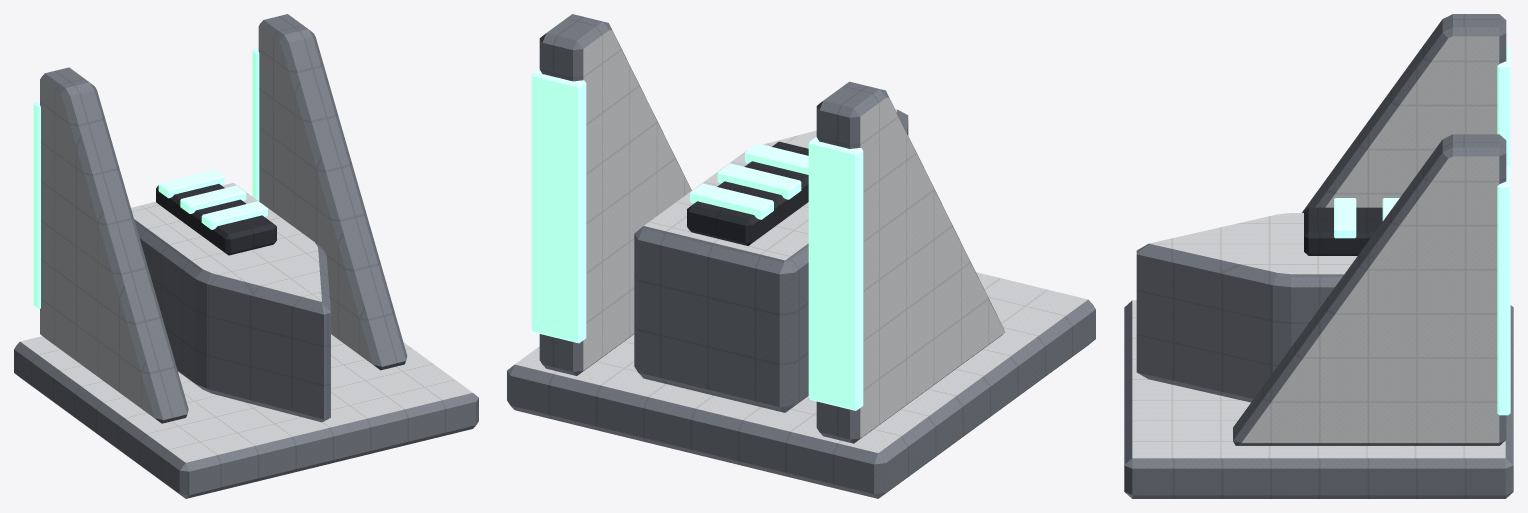
File: R4X_MobilityBooster_LOD1.glb
The picture shows the model from 3 angles, left to right: view 1: azimuth 30°, elevation 25°; view 2: azimuth 150°, elevation 25°; view 3: azimuth 270°, elevation 25°; orthographic projection. The views are drawn at different scales.
Parts seen in each view (by area): view 1: R4X_MobilityBooster_LOD1; view 2: R4X_MobilityBooster_LOD1; view 3: R4X_MobilityBooster_LOD1.
Boxes of the visible parts, x1,y1,x2,y2 form: R4X_MobilityBooster_LOD1: (14, 14, 478, 498); R4X_MobilityBooster_LOD1: (507, 14, 1095, 498); R4X_MobilityBooster_LOD1: (1124, 14, 1513, 498).
Size of the model in its own units: 0.52 by 0.5 by 0.52.
4 materials, 3 textured.
